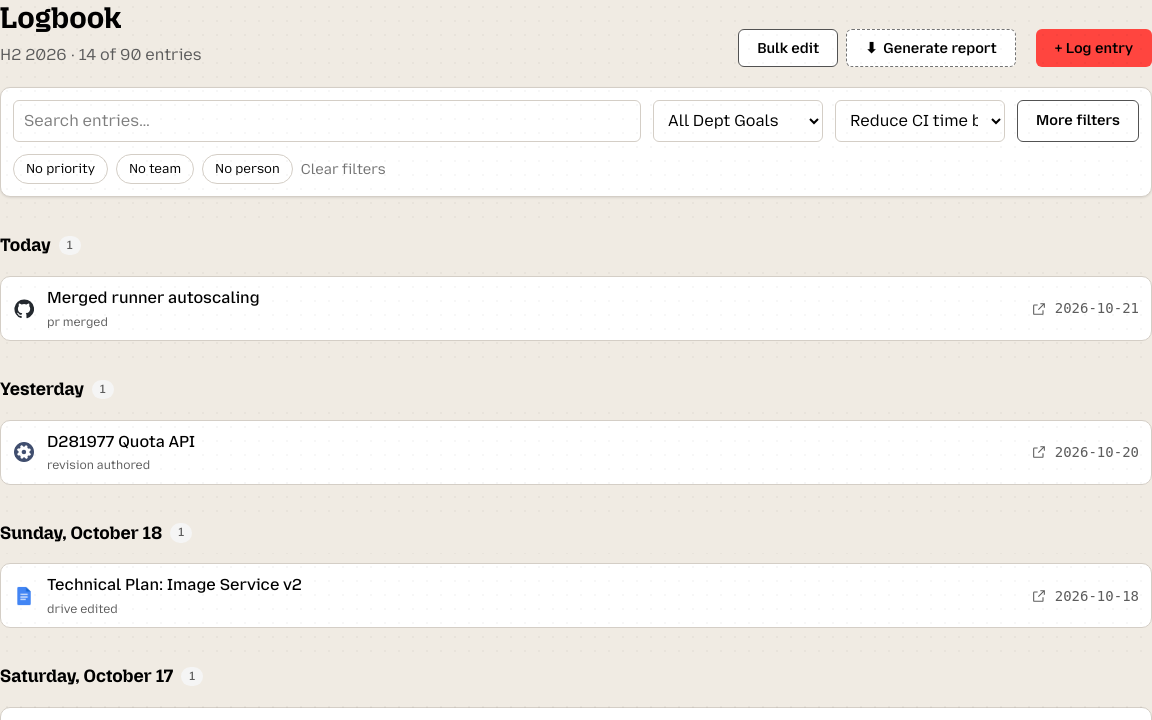
it: Logbook report dialog › shows the active filters as chips and the matching count
Expected: the text "H2 2026 · 14 of 90 entries" is shown, [0,42,202,67]
Click the button "⬇ Generate report". click: (931, 48)
box: [846,29,1016,67]
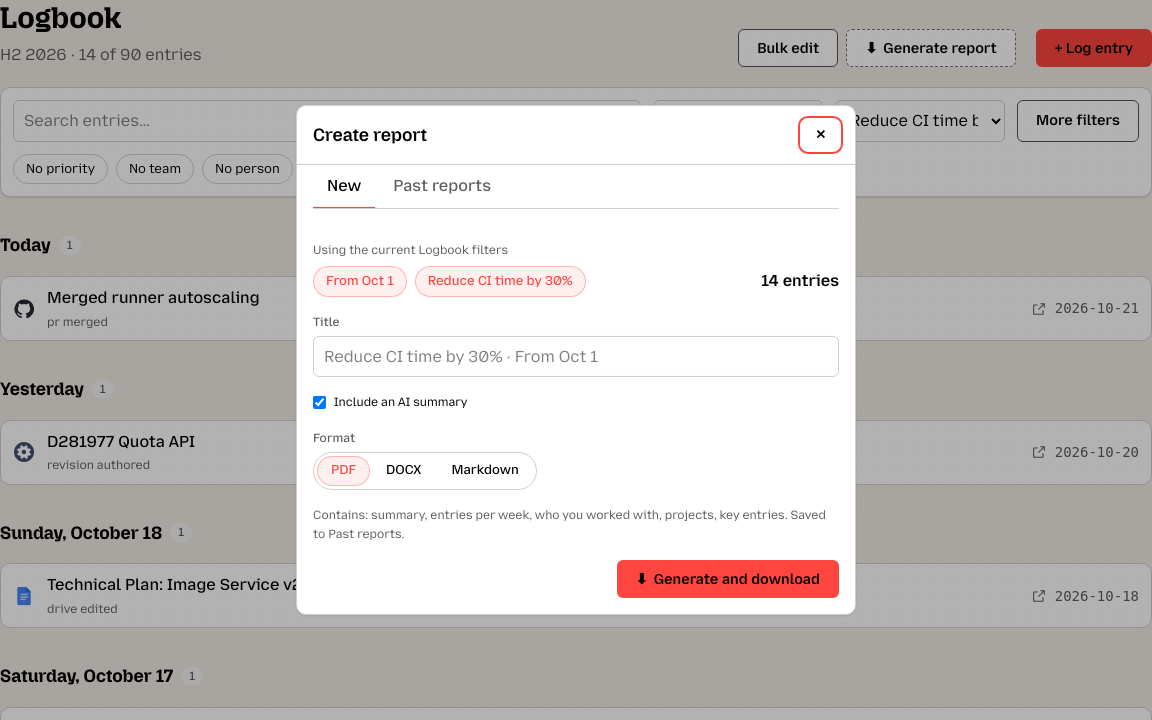
Now the text "Reduce CI time by 30%" is shown, box [415,266,586,296]
Now the text "From Oct 1" is shown, box [313,266,407,296]
Now the text "14 entries" is shown, box [761,268,839,294]
